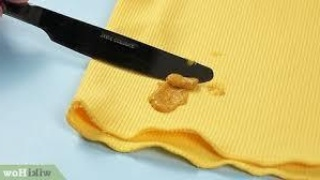mustard: (156, 73, 197, 111), (208, 80, 223, 99)
